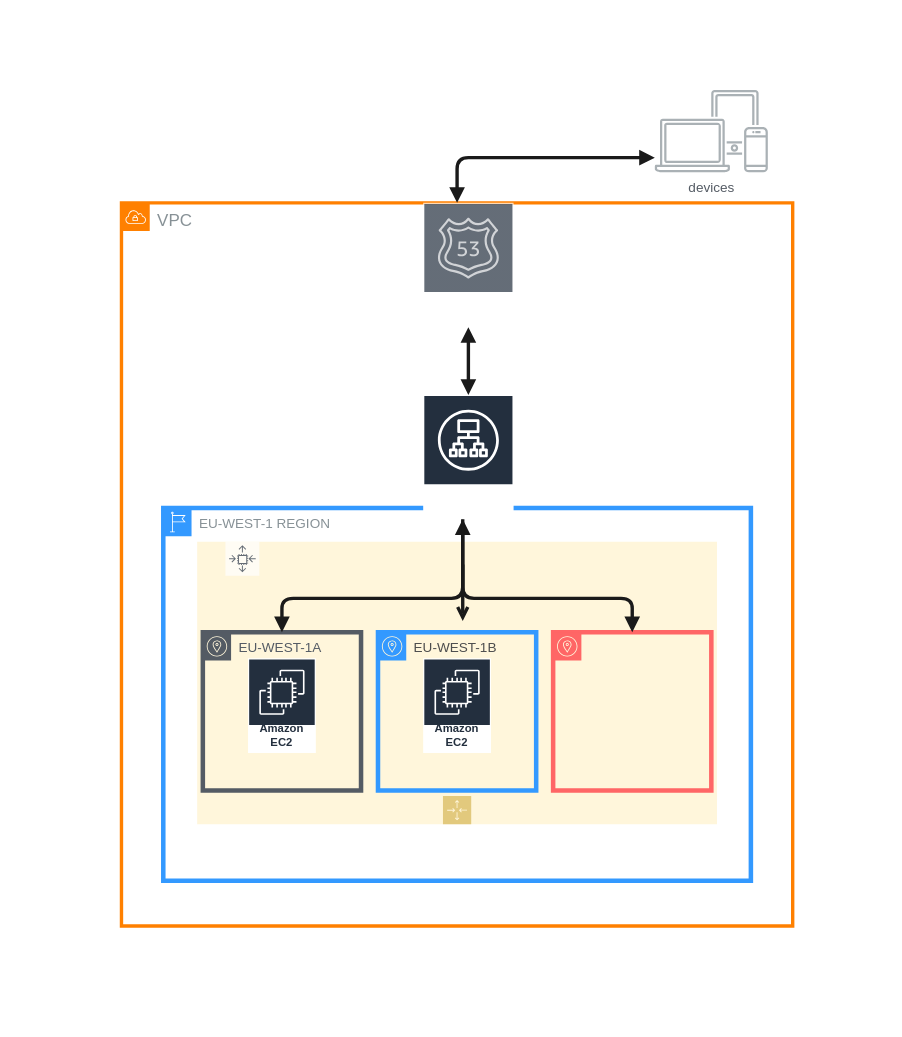
The diagram is 902 pixels wide and 1037 high, and some of its shapes have lost their labels. Here are the shapes that lost their labels. From the top down, the centre of each, then its label:
[468,264]: Amazon Route 53
[468,456]: Application Load Balancer
[241,558]: Auto Scaling
[631,710]: EU-WEST-1C
